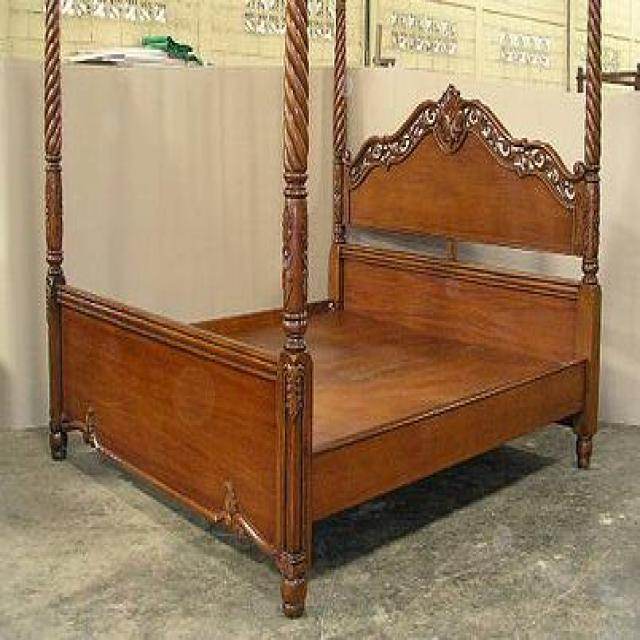bed: (48, 83, 602, 623)
